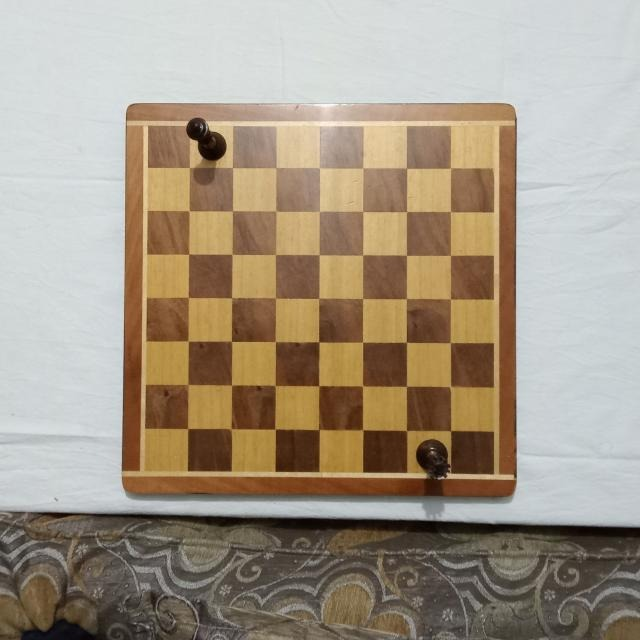black-king: (186, 115, 226, 161)
black-queen: (415, 439, 453, 479)
